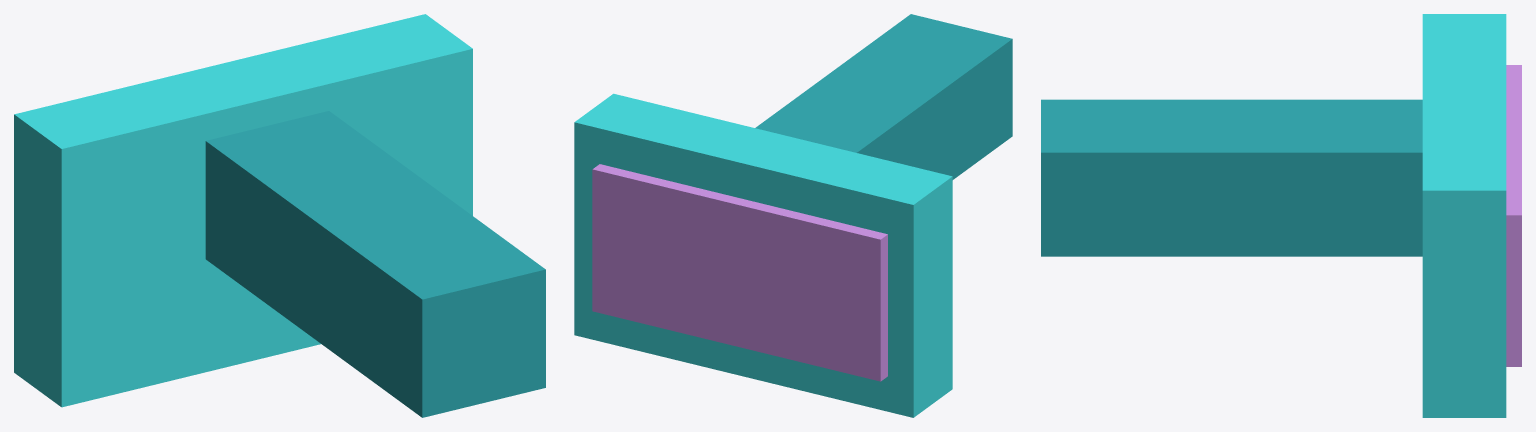
Rendered from range-hood.glb.
3 renders of one model, left to right at view 1: azimuth 30°, elevation 25°; view 2: azimuth 150°, elevation 25°; view 3: azimuth 270°, elevation 25°, orthographic. The views are drawn at different scales.
Visible parts, largest first — view 1: world; view 2: world; view 3: world.
Part boxes in pixels (box(x1,y1,x2,y2)): world: box(14, 14, 545, 417); world: box(574, 14, 1012, 417); world: box(1041, 14, 1521, 417).
Size of the model in its own units: 0.8 by 0.48 by 0.92.
